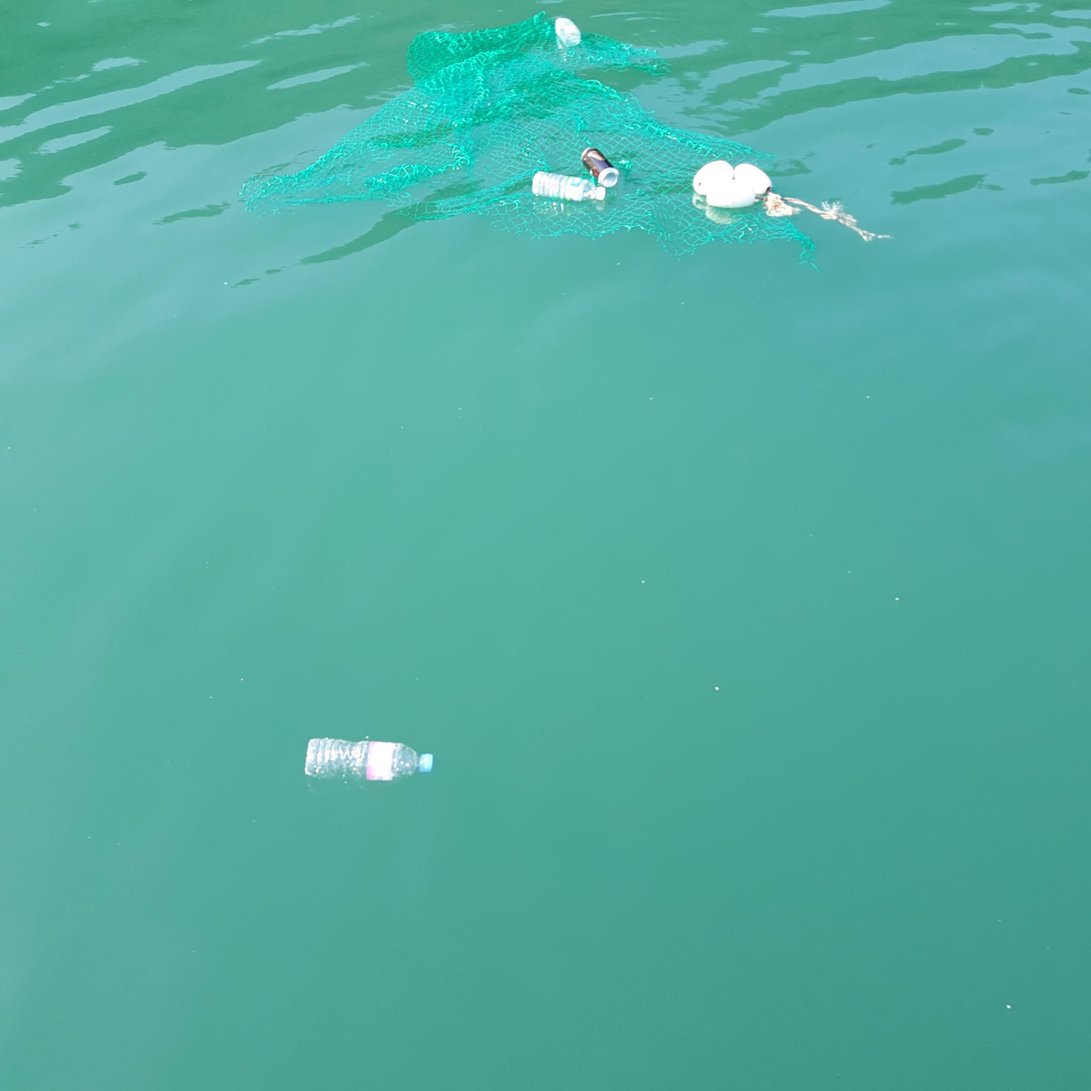sampah_terapung: (237, 12, 818, 271), (755, 191, 895, 243), (305, 738, 434, 781), (532, 172, 606, 202), (582, 148, 620, 188), (693, 161, 735, 195), (707, 180, 756, 209), (735, 164, 772, 194), (556, 18, 582, 47)
